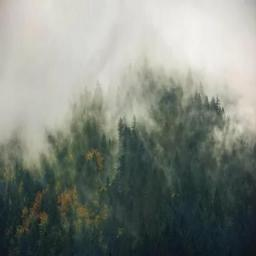Heavy smoke: (0, 0, 255, 149)
